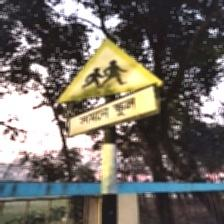School-in-front: (56, 37, 164, 138)
